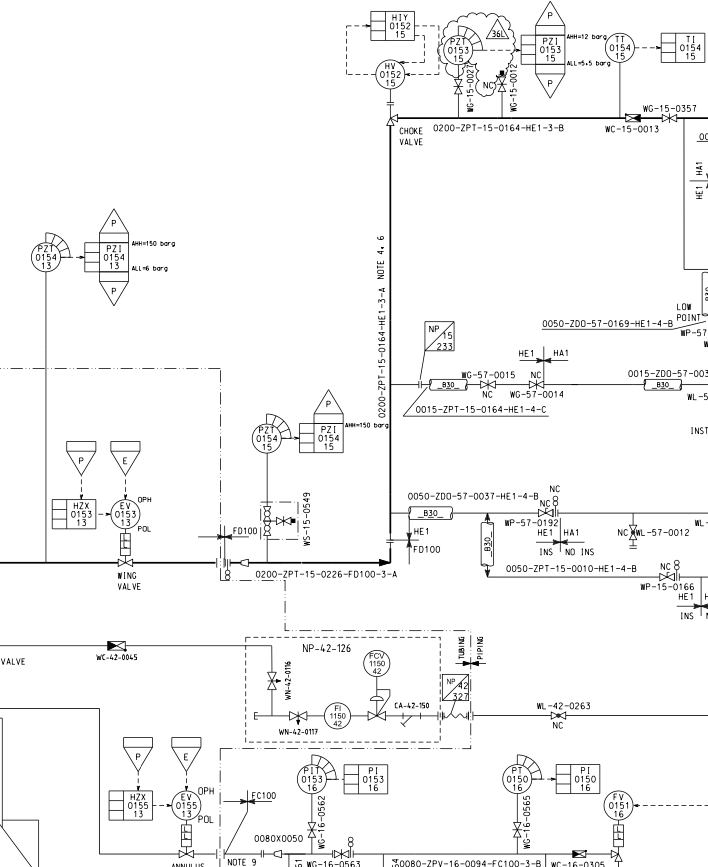Instrument: (501, 761, 538, 801), (168, 787, 206, 823), (600, 788, 636, 825), (321, 699, 356, 736), (296, 761, 329, 800), (108, 497, 144, 532), (249, 421, 285, 456), (374, 55, 408, 92), (604, 30, 637, 66), (360, 647, 394, 680), (442, 35, 476, 68), (29, 240, 62, 272)
Instrument-square: (47, 492, 101, 537), (104, 785, 160, 826), (339, 759, 396, 799), (294, 415, 347, 457), (364, 6, 420, 44), (552, 757, 602, 798), (519, 29, 569, 69), (80, 237, 133, 274), (655, 28, 707, 64)
